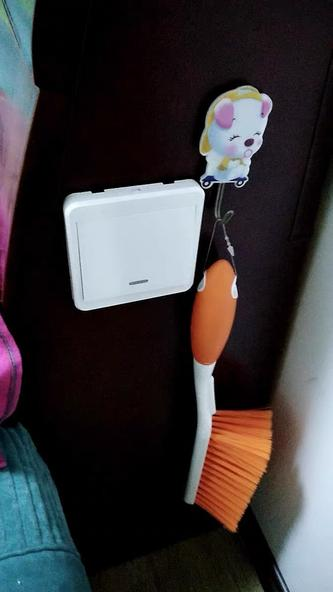switch: (73, 187, 203, 305)
